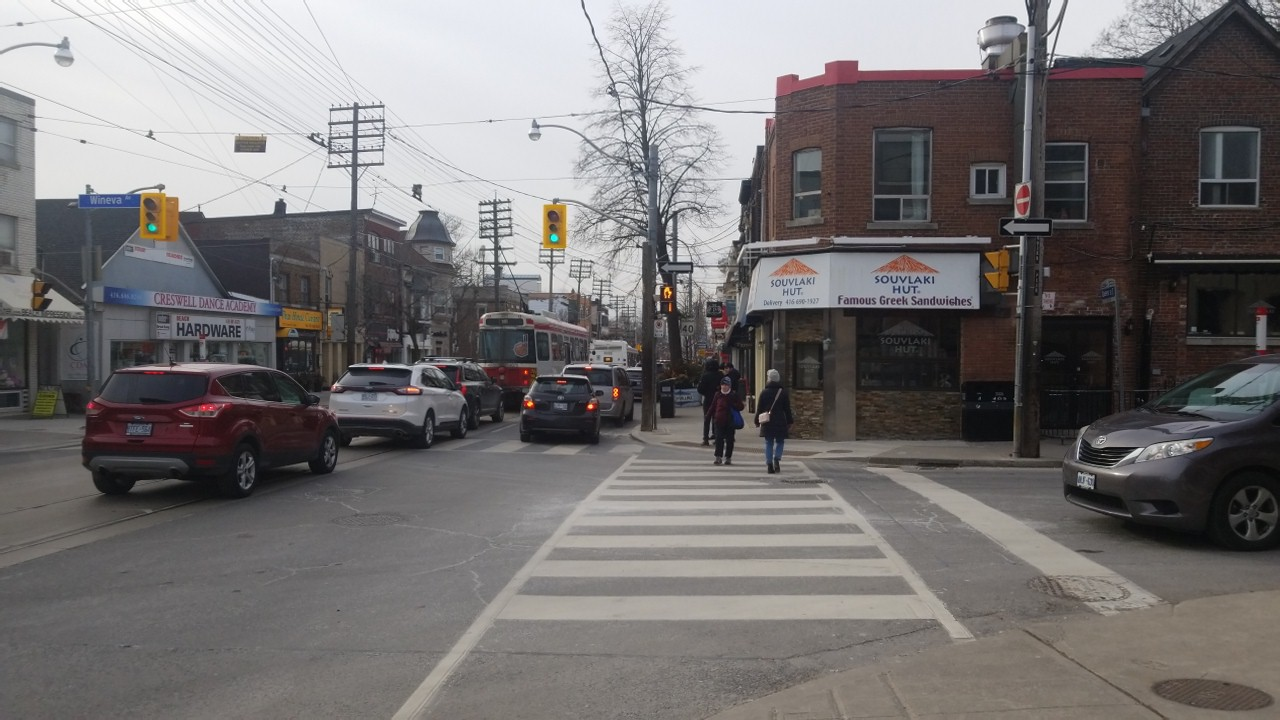light: (660, 284, 676, 316)
